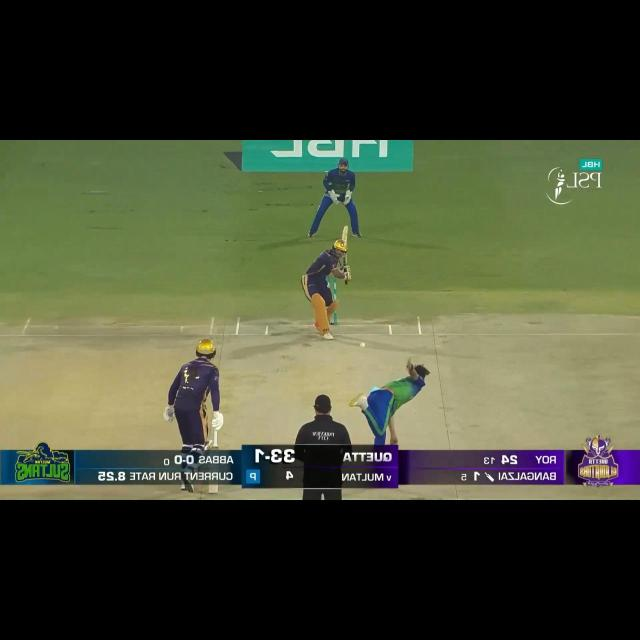bat: (340, 222, 352, 262), (207, 483, 220, 493), (212, 442, 218, 449)
toe: (204, 481, 222, 494), (342, 224, 350, 236)
